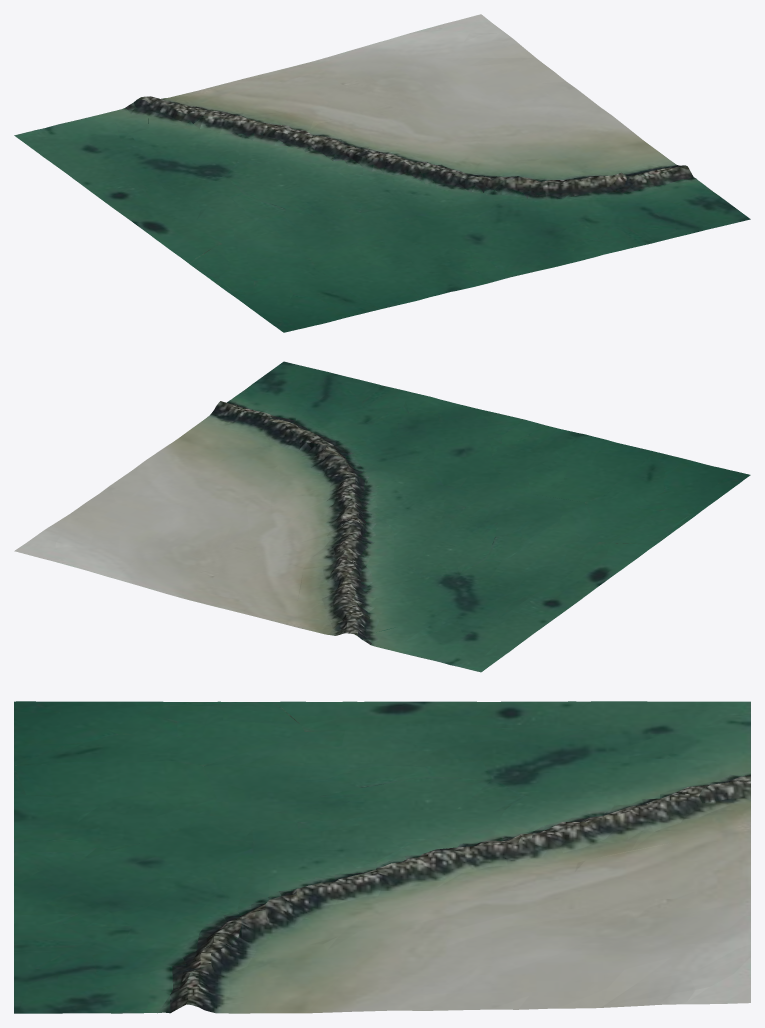
3 renders of one model, top to bottom at view 1: azimuth 30°, elevation 25°; view 2: azimuth 150°, elevation 25°; view 3: azimuth 270°, elevation 25°, orthographic. The views are drawn at different scales.
Bounding box in the file's own units: 209 × 3.81 × 209.
Materials: 2 (2 with a texture image).
